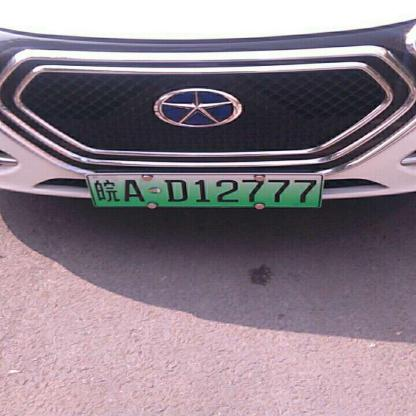lp: (88, 173, 322, 206)
